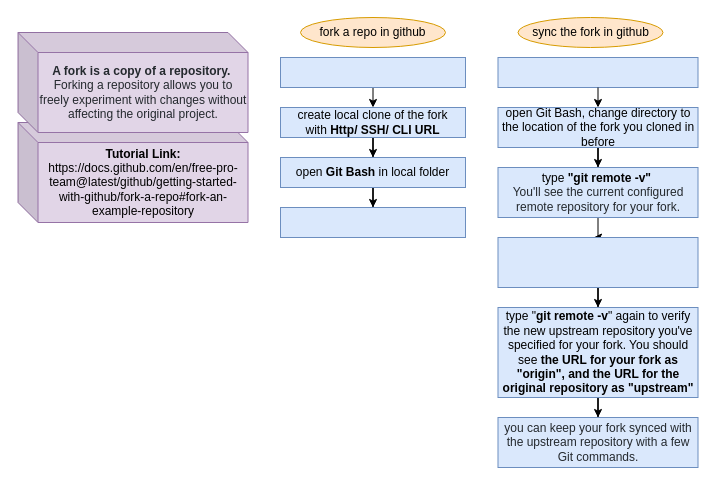
This 715x485 diagram has some shape labels left out. The shapes that lost their labels are listed below. From the top down, each one's box as (x1, y1, x2, y2) in pixels, then its label:
(280, 56, 466, 88): click fork to fork the upstream file
(497, 56, 698, 88): create local clone of fork
(280, 206, 466, 238): type "git clone" and paste the above URL
(497, 236, 698, 288): type " git remote add upstream " and paste the URL of the fork
